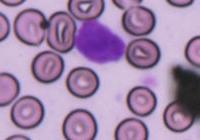L: (72, 17, 128, 67)
